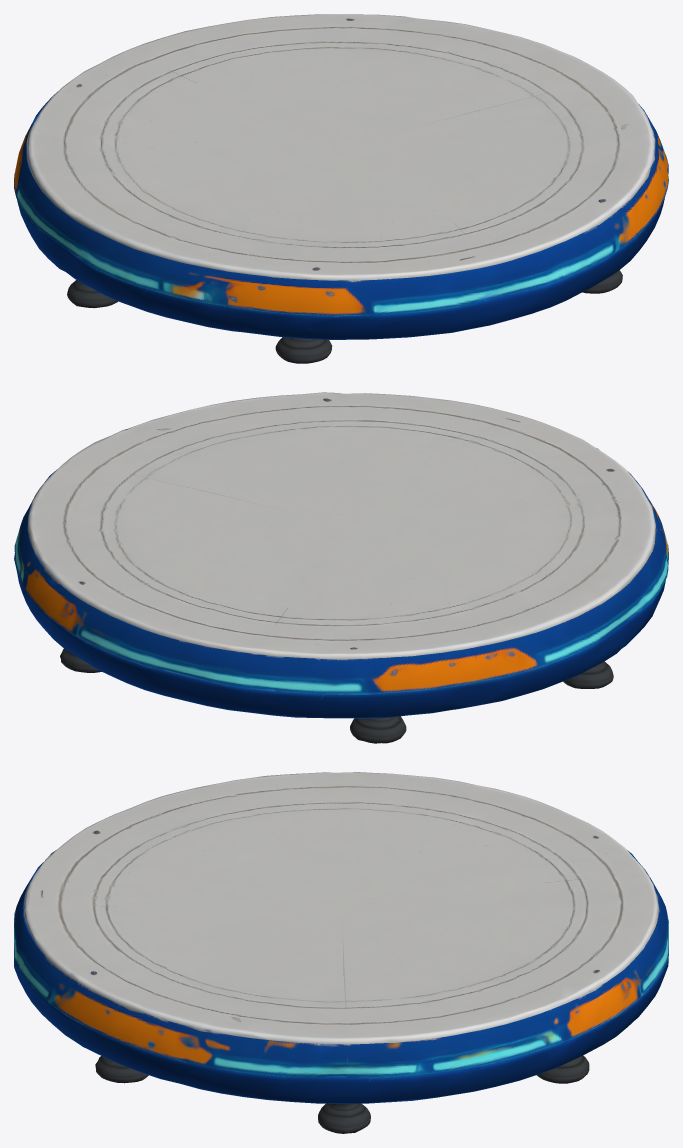
File: meshy_turntable.glb
3 views of the same model, one above another, from view 1: azimuth 30°, elevation 25°; view 2: azimuth 150°, elevation 25°; view 3: azimuth 270°, elevation 25° (orthographic).
Visible parts, largest first — view 1: geometry_0; view 2: geometry_0; view 3: geometry_0.
Boxes of the visible parts, x1,y1,x2,y2 form: geometry_0: (14, 14, 668, 363); geometry_0: (14, 392, 668, 743); geometry_0: (14, 772, 668, 1133).
Bounding box in the file's own units: 1 × 0.1642 × 1.
Materials: 1 (1 with a texture image).
